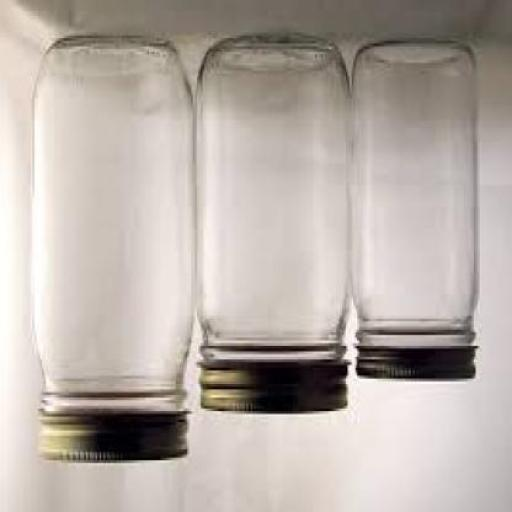glass: (32, 38, 198, 414), (200, 46, 358, 365), (353, 44, 481, 349)
metal: (40, 414, 190, 464), (202, 373, 352, 413), (357, 346, 477, 381)
